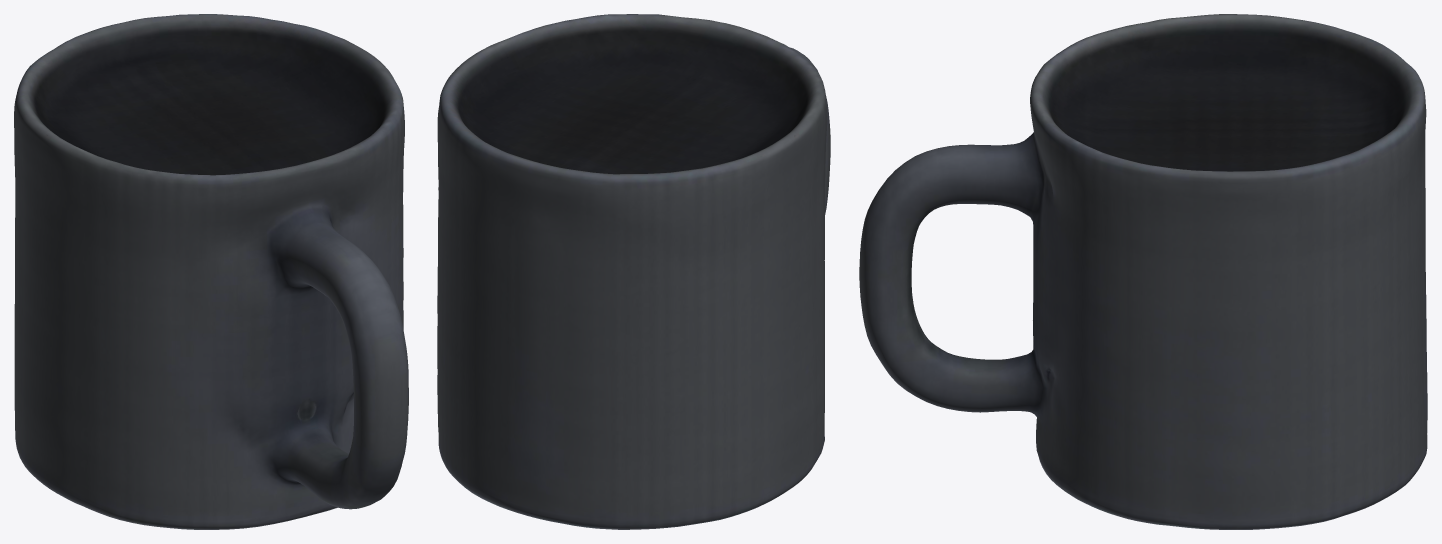
The model's file is coffee_mug_preview_2.glb.
3 views of the same model, side by side, from view 1: azimuth 30°, elevation 25°; view 2: azimuth 150°, elevation 25°; view 3: azimuth 270°, elevation 25° (orthographic).
Visible parts, largest first — view 1: mesh; view 2: mesh; view 3: mesh.
Boxes of the visible parts, x1,y1,x2,y2 form: mesh: (14,14,408,529); mesh: (437,14,830,529); mesh: (859,14,1427,529).
Bounding box in the file's own units: 0.6802 × 0.7 × 0.9995.
Materials: 1 (1 with a texture image).
